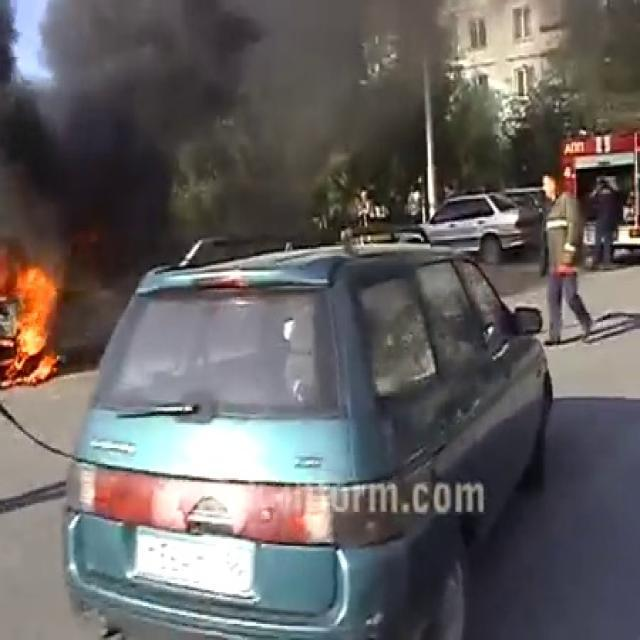Fire: (0, 252, 68, 382)
Smoke: (0, 0, 516, 231)
